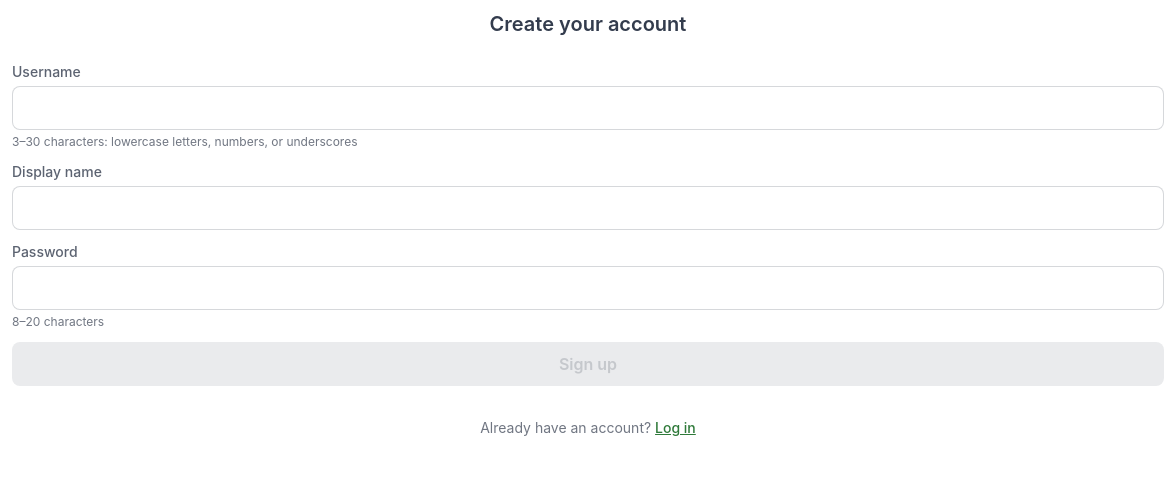
Test case: SignupPage › shows the error when the username is taken
This screenshot has width=1176, height=485.
Type "Ada_L" into the field labelled "Username".
click(588, 108); type("Ada_L")  # box 12,86 -> 1164,130
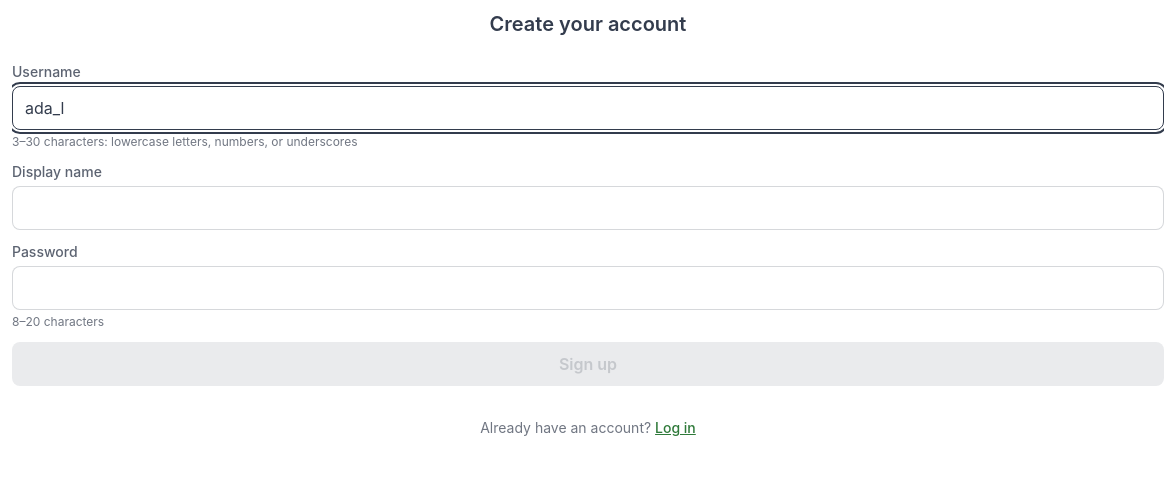
Type "Ada Lovelace" into the field labelled "Display name".
click(588, 208); type("Ada Lovelace")  # box 12,186 -> 1164,230
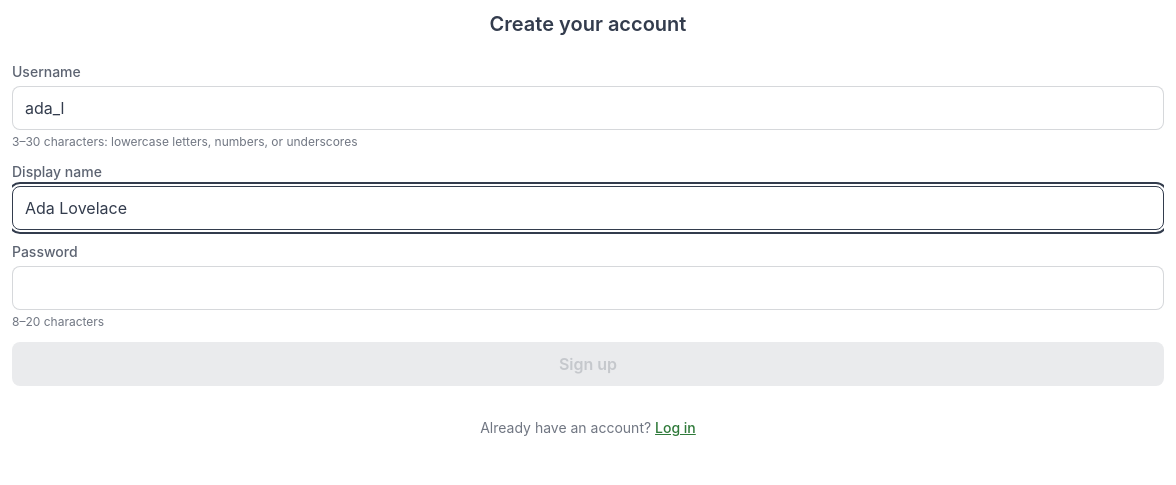
Type "engine1843" into the password field labelled "Password".
click(588, 288); type("engine1843")  # box 12,266 -> 1164,310
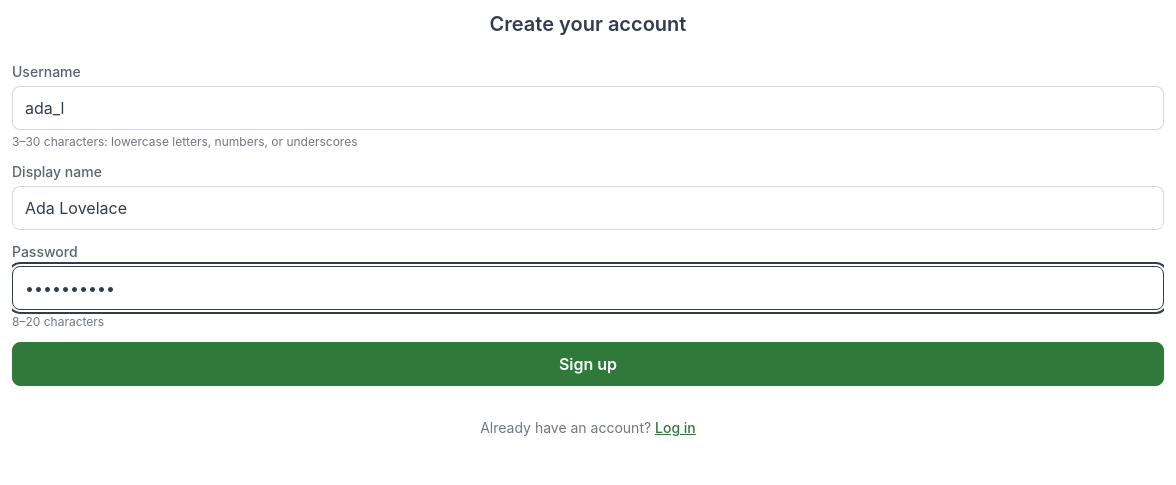
Click the button "Sign up".
click(588, 364)  # box 12,342 -> 1164,386
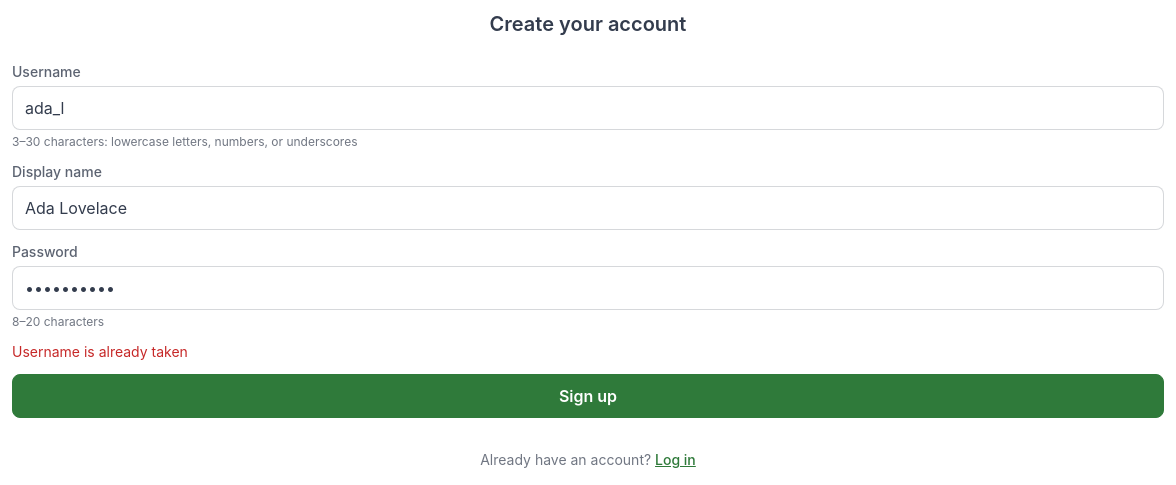
Now the message reads "Username is already taken", box 12,343 -> 188,360
